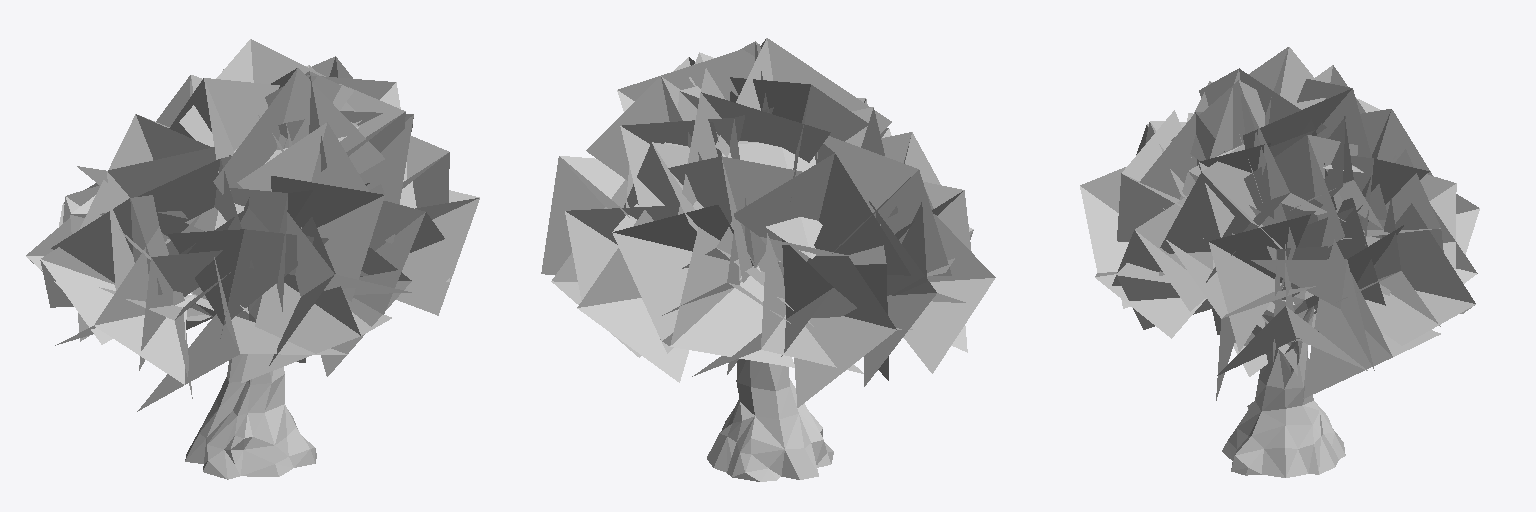
Rendered from elwynntreecanopy02.obj.
The picture shows the model from 3 angles: view 1: azimuth 30°, elevation 25°; view 2: azimuth 150°, elevation 25°; view 3: azimuth 270°, elevation 25°; orthographic projection.
Parts seen in each view (by area): view 1: ElwynnTreeCanopy02; view 2: ElwynnTreeCanopy02; view 3: ElwynnTreeCanopy02.
Part boxes in pixels (x1,y1,x2,y2): ElwynnTreeCanopy02: (26,39,479,479); ElwynnTreeCanopy02: (541,38,995,481); ElwynnTreeCanopy02: (1080,47,1479,477).
Bounding box in the file's own units: 54.94 × 53.36 × 48.85.